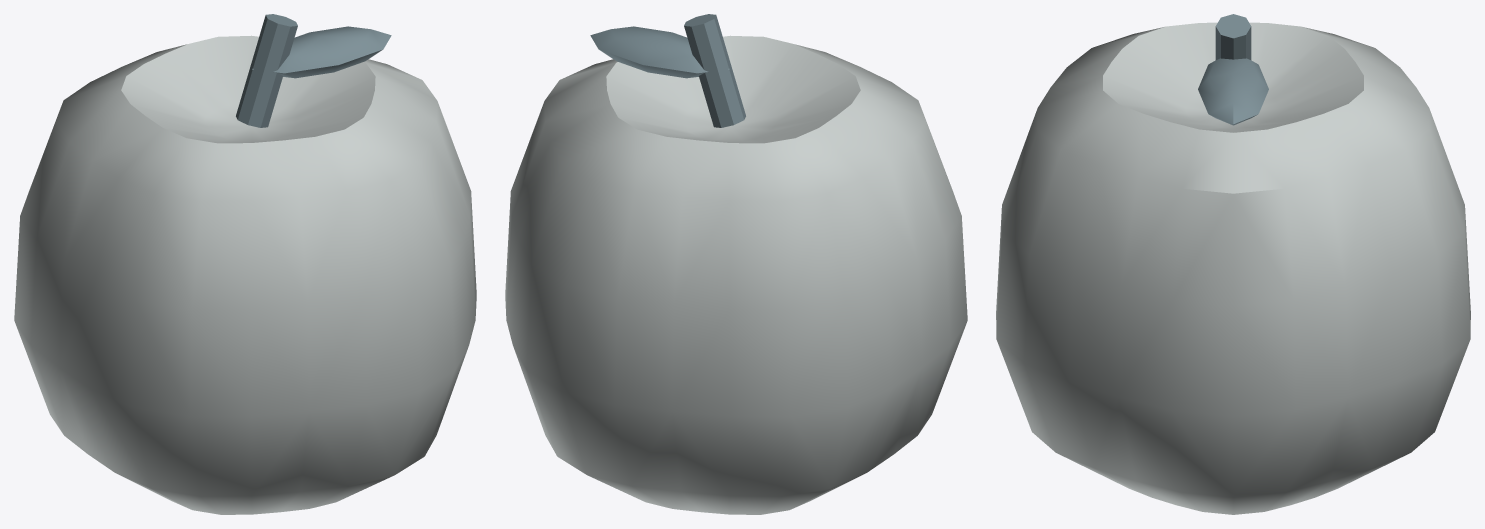
Rendered from apple.glb.
3 views of the same model, side by side, from view 1: azimuth 30°, elevation 25°; view 2: azimuth 150°, elevation 25°; view 3: azimuth 270°, elevation 25° (orthographic). The views are drawn at different scales.
Visible parts, largest first — view 1: apple_lobed_flesh, apple_leaf, apple_stem; view 2: apple_lobed_flesh, apple_leaf, apple_stem; view 3: apple_lobed_flesh, apple_leaf, apple_stem.
Boxes of the visible parts, bbox=[...] form: apple_lobed_flesh: bbox=[14, 35, 476, 514]; apple_leaf: bbox=[252, 26, 391, 78]; apple_stem: bbox=[236, 14, 297, 127]; apple_lobed_flesh: bbox=[505, 35, 967, 514]; apple_leaf: bbox=[590, 26, 729, 78]; apple_stem: bbox=[684, 14, 745, 127]; apple_lobed_flesh: bbox=[996, 22, 1470, 514]; apple_leaf: bbox=[1198, 58, 1268, 125]; apple_stem: bbox=[1215, 14, 1251, 59].
Size of the model in its own units: 0.08 by 0.0849 by 0.08.
